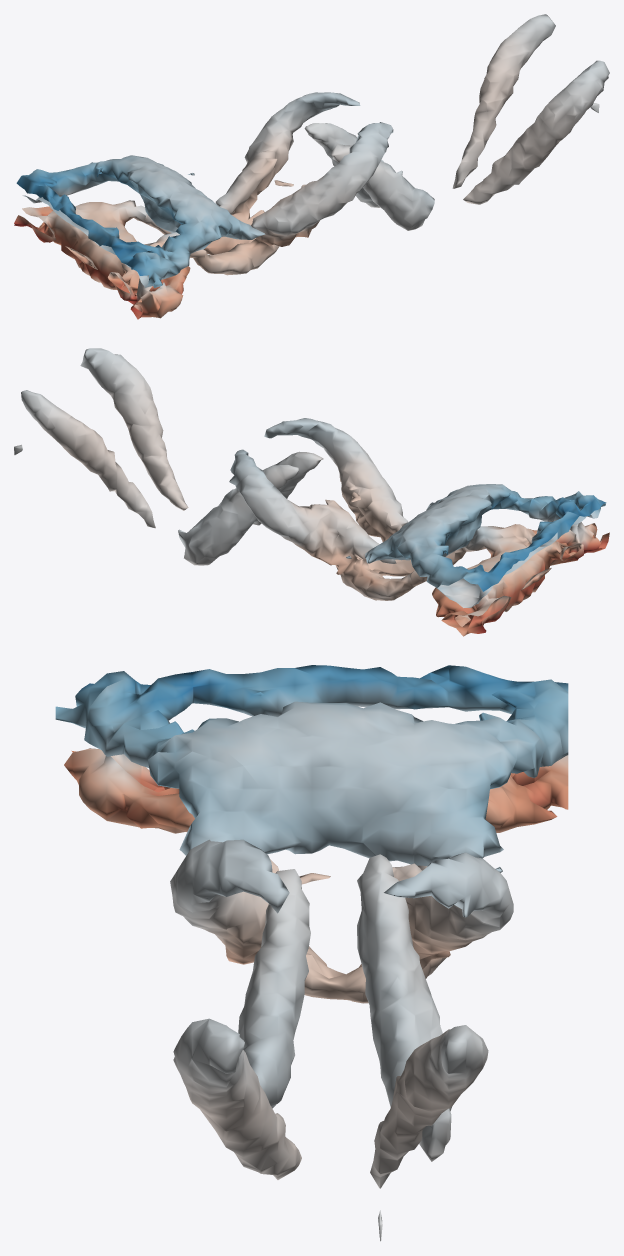
3 views of the same model, one above another, from view 1: azimuth 30°, elevation 25°; view 2: azimuth 150°, elevation 25°; view 3: azimuth 270°, elevation 25° (orthographic). The views are drawn at different scales.
Bounding box in the file's own units: 5.87 × 1.52 × 2.5.
